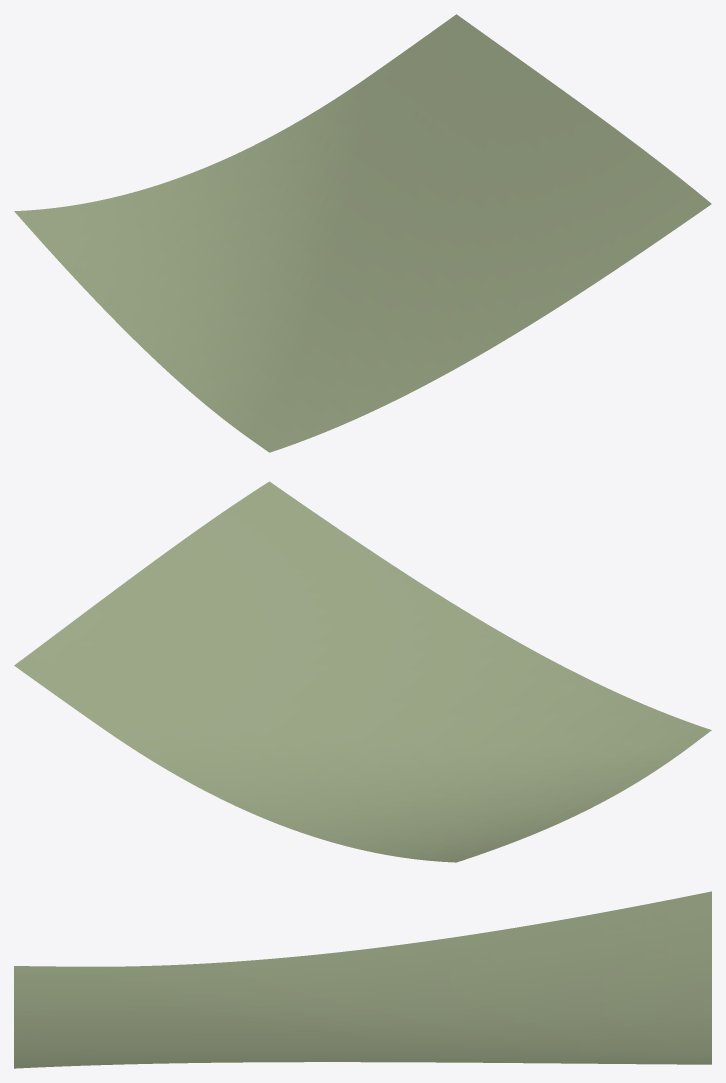
The model's file is expanse-24-8.glb.
3 renders of one model, top to bottom at view 1: azimuth 30°, elevation 25°; view 2: azimuth 150°, elevation 25°; view 3: azimuth 270°, elevation 25°, orthographic. The views are drawn at different scales.
Parts seen in each view (by area): view 1: expanse-24-8; view 2: expanse-24-8; view 3: expanse-24-8.
Boxes of the visible parts, x1,y1,x2,y2 form: expanse-24-8: (14,14,711,452); expanse-24-8: (14,481,711,862); expanse-24-8: (14,891,711,1068).
Bounding box in the file's own units: 256 × 80.79 × 256.
